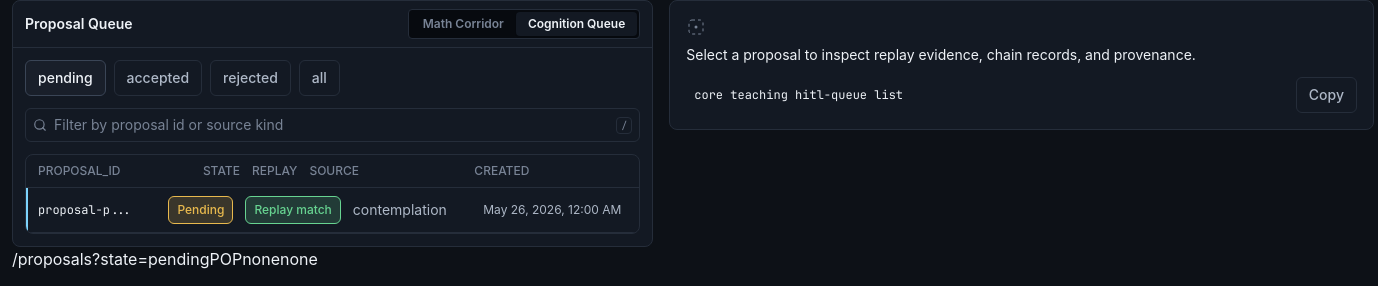
Test: ProposalsRoute › restricts visible rows by filter state
Expected: the text titled "proposal-pending-001abcdef" is shown, [38, 202, 132, 218]
Click the button "accepted" at (158, 78), box [114, 60, 202, 96]
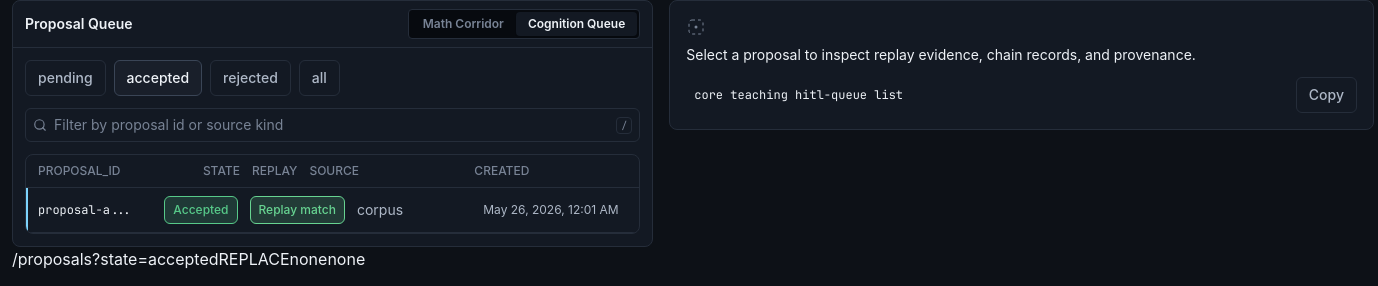
Now the text titled "proposal-accepted-002abcdef" is shown, box [38, 202, 132, 218]
Now the text titled "proposal-pending-001abcdef" is gone
